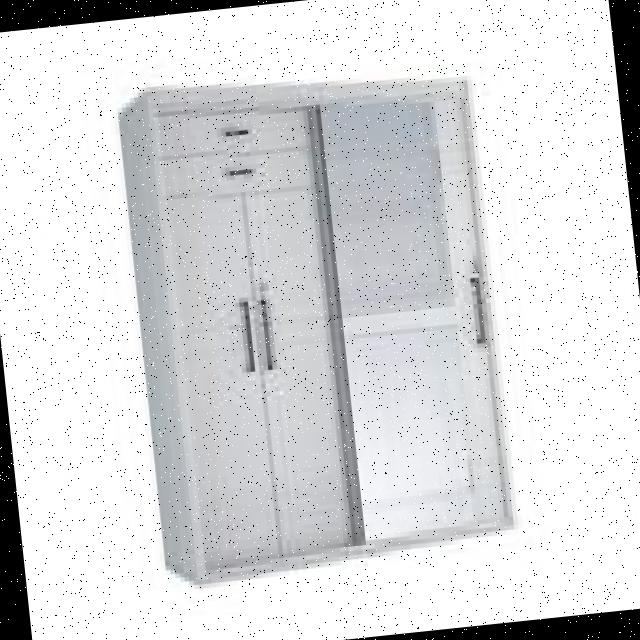Closet: (109, 48, 527, 594)
